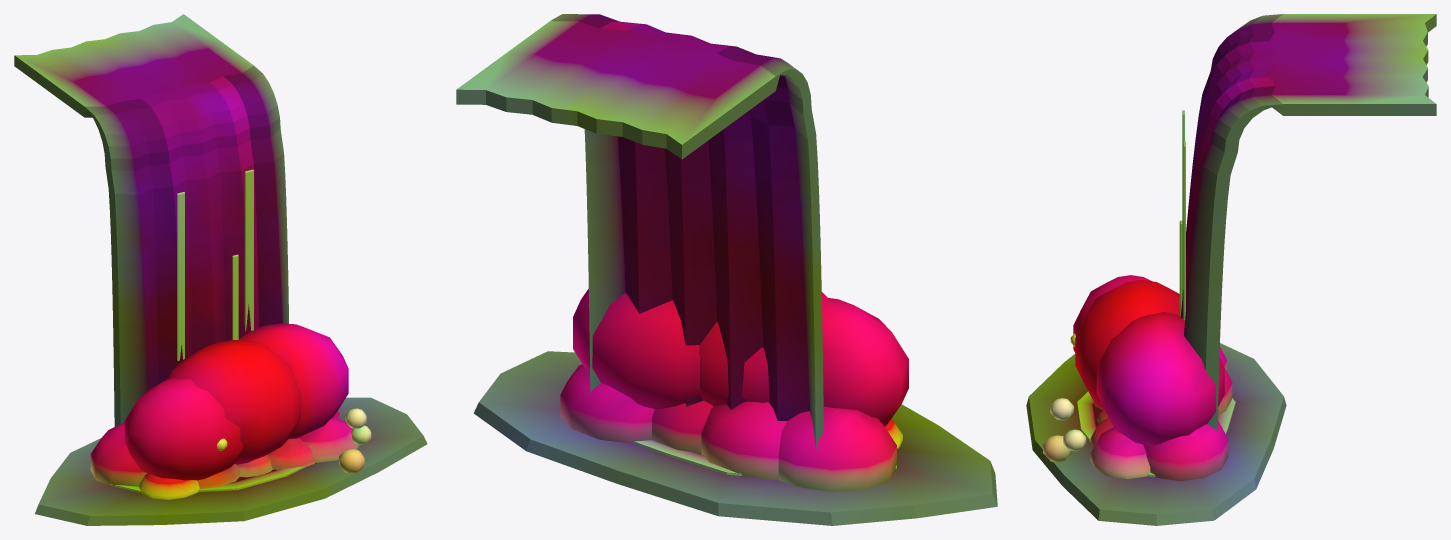
File: Waterfall_Medium.fbx
3 views of the same model, side by side, from view 1: azimuth 30°, elevation 25°; view 2: azimuth 150°, elevation 25°; view 3: azimuth 270°, elevation 25° (orthographic). The views are drawn at different scales.
Visible parts, largest first — view 1: Waterfall_Medium; view 2: Waterfall_Medium; view 3: Waterfall_Medium.
Boxes of the visible parts, box(x1,y1,x2,y2) form: Waterfall_Medium: box(14, 14, 427, 525); Waterfall_Medium: box(456, 14, 997, 525); Waterfall_Medium: box(1026, 14, 1436, 525).
Size of the model in its own units: 3.56 by 3.06 by 3.08.
